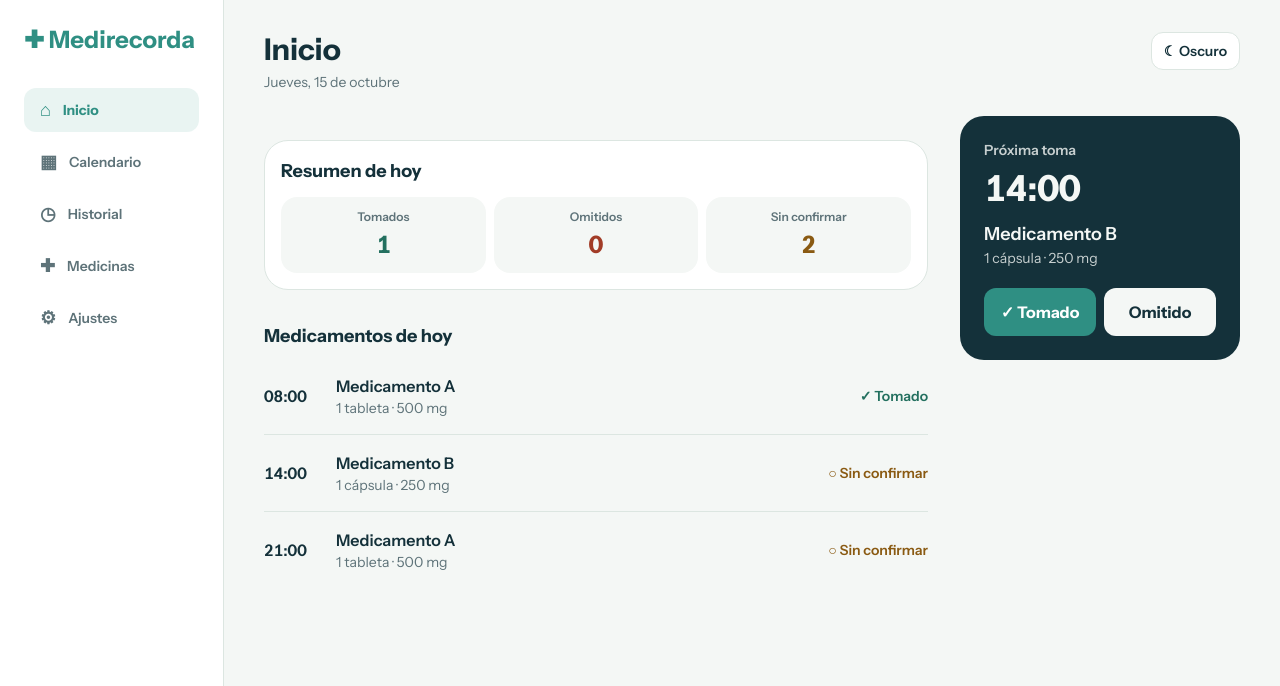
Test: validación del formulario › los errores solo aparecen en campos que la persona ya tocó
Click the button "✚ Medicinas" at (112, 266), box [24, 244, 199, 288]
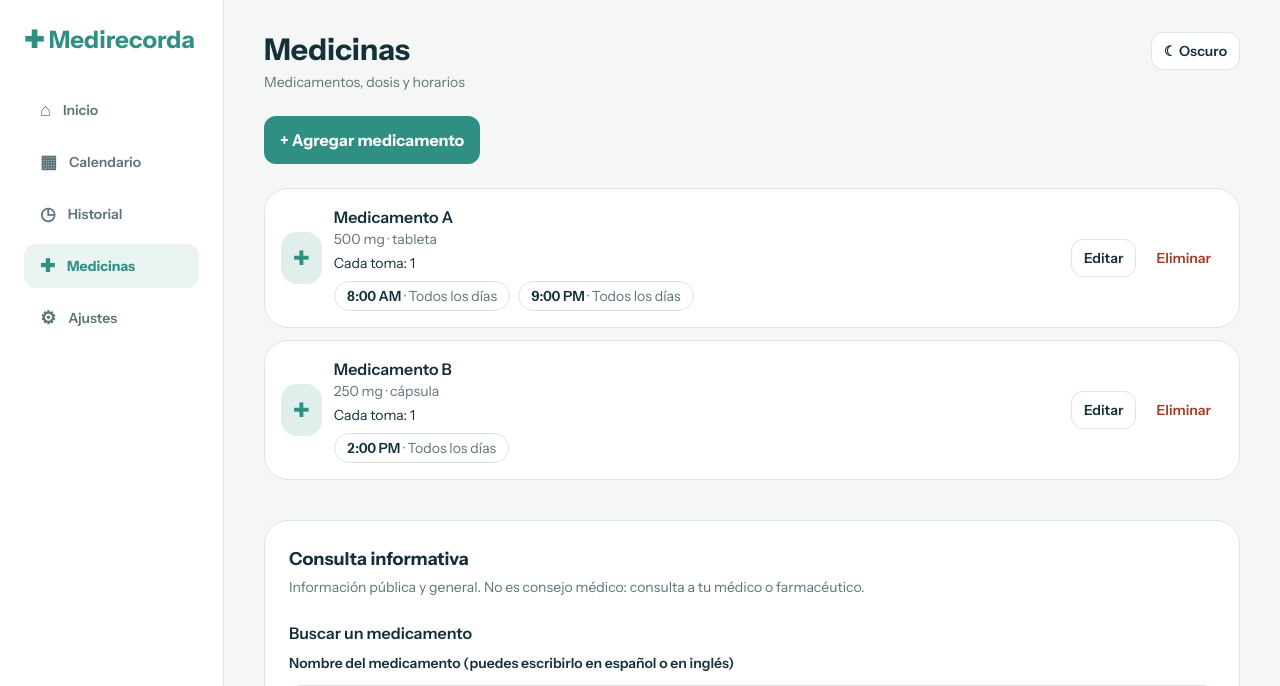
Click the button "+ Agregar medicamento" at (372, 140), box [264, 116, 480, 164]
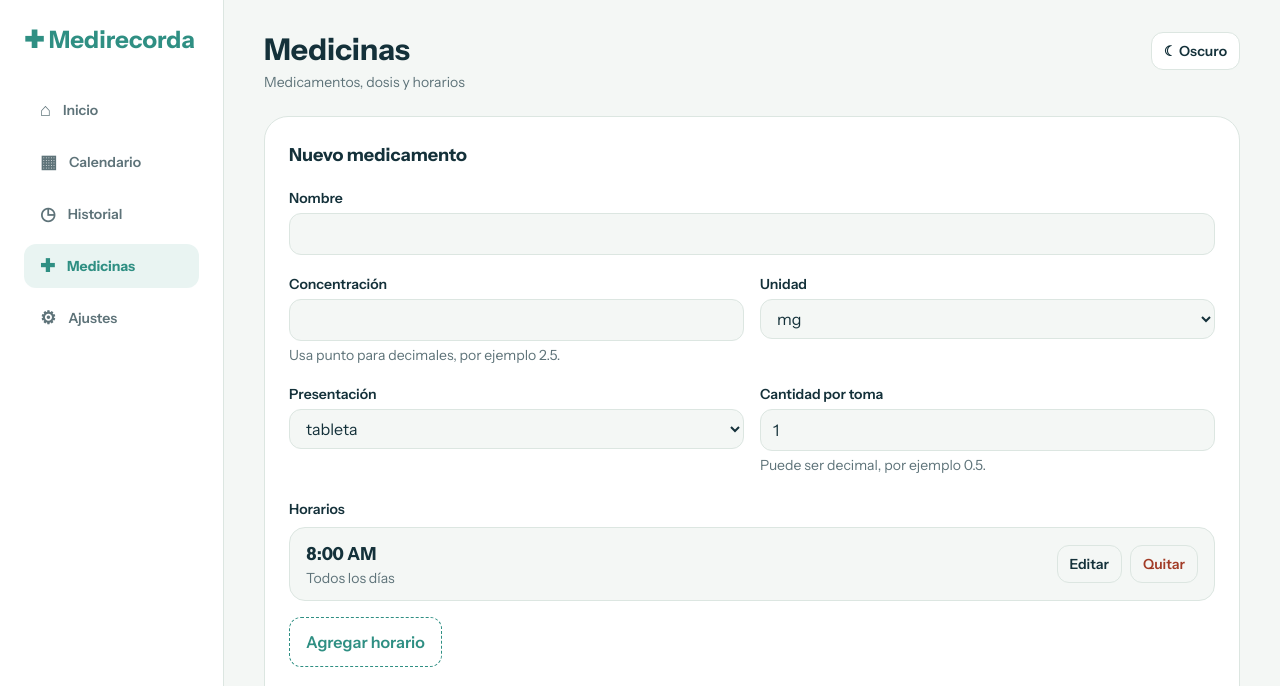
Expected: the text "Indica la concentración." is not shown
Leave the field labelled "Concentración", box [289, 299, 744, 341]
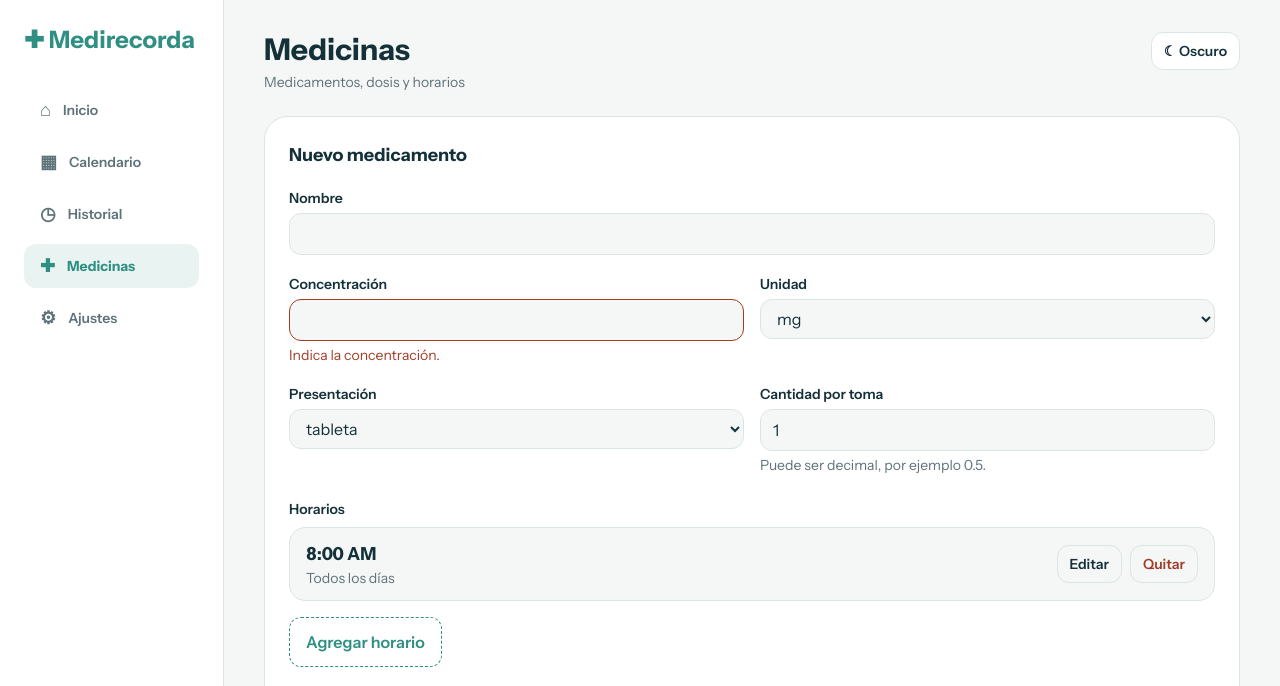
Now the text "Indica la concentración." is shown, box [289, 346, 440, 364]
